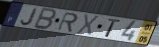4: (120, 20, 137, 42)
B: (32, 7, 58, 31)
J: (20, 7, 40, 27)
R: (56, 12, 80, 34)
T: (104, 18, 122, 39)
X: (75, 13, 101, 37)
